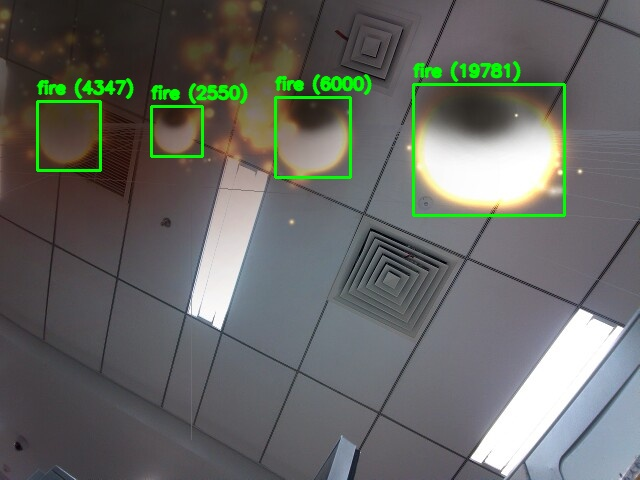fire: (413, 84, 564, 215), (275, 97, 350, 177), (37, 101, 100, 170), (151, 106, 202, 156)
